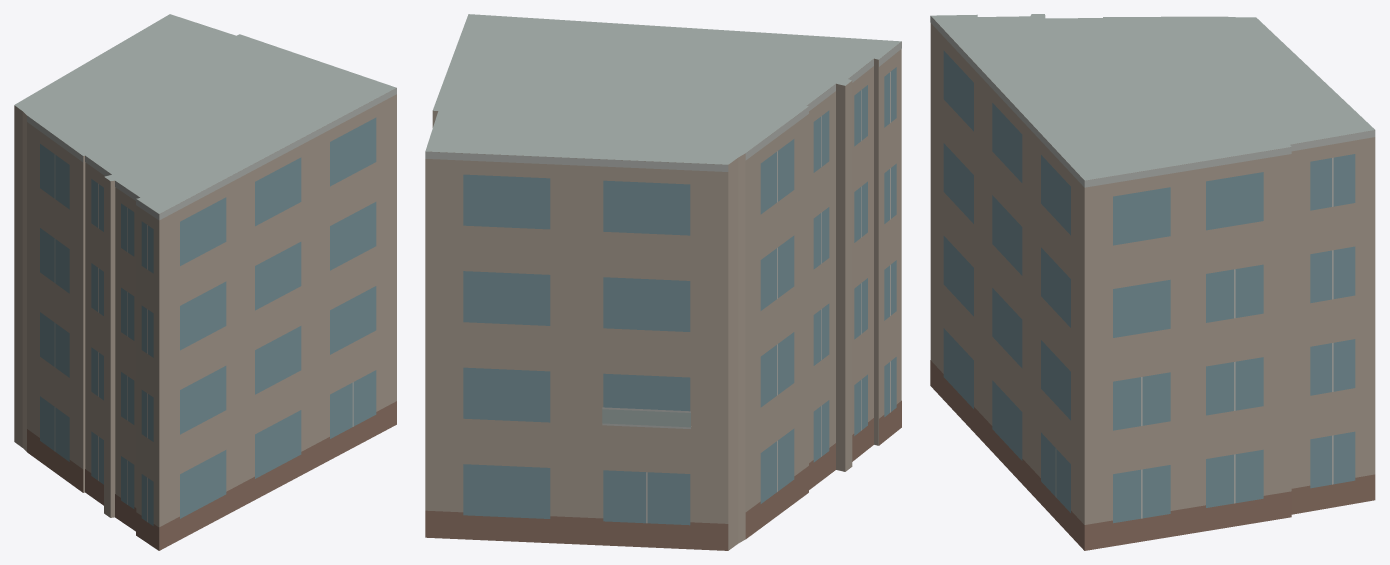
Rendered from survey-upis-32838572.glb.
3 views of the same model, side by side, from view 1: azimuth 30°, elevation 25°; view 2: azimuth 150°, elevation 25°; view 3: azimuth 270°, elevation 25° (orthographic). The views are drawn at different scales.
Parts seen in each view (by area): view 1: survey-upis-32838572.tmp; view 2: survey-upis-32838572.tmp; view 3: survey-upis-32838572.tmp.
Part boxes in pixels (x1,y1,x2,y2): survey-upis-32838572.tmp: [14, 14, 396, 550]; survey-upis-32838572.tmp: [425, 14, 901, 550]; survey-upis-32838572.tmp: [930, 14, 1375, 550].
Bounding box in the file's own units: 12.36 × 12.8 × 13.95.
